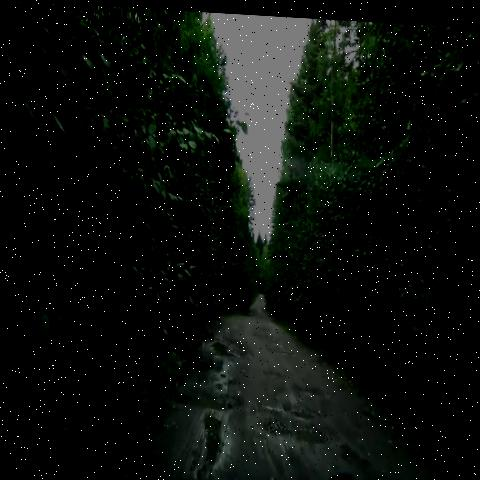pothole: (183, 397, 237, 479), (168, 376, 244, 428), (265, 404, 336, 453), (203, 325, 251, 372), (268, 393, 325, 426), (293, 378, 330, 405), (268, 337, 298, 369), (339, 430, 363, 466)
